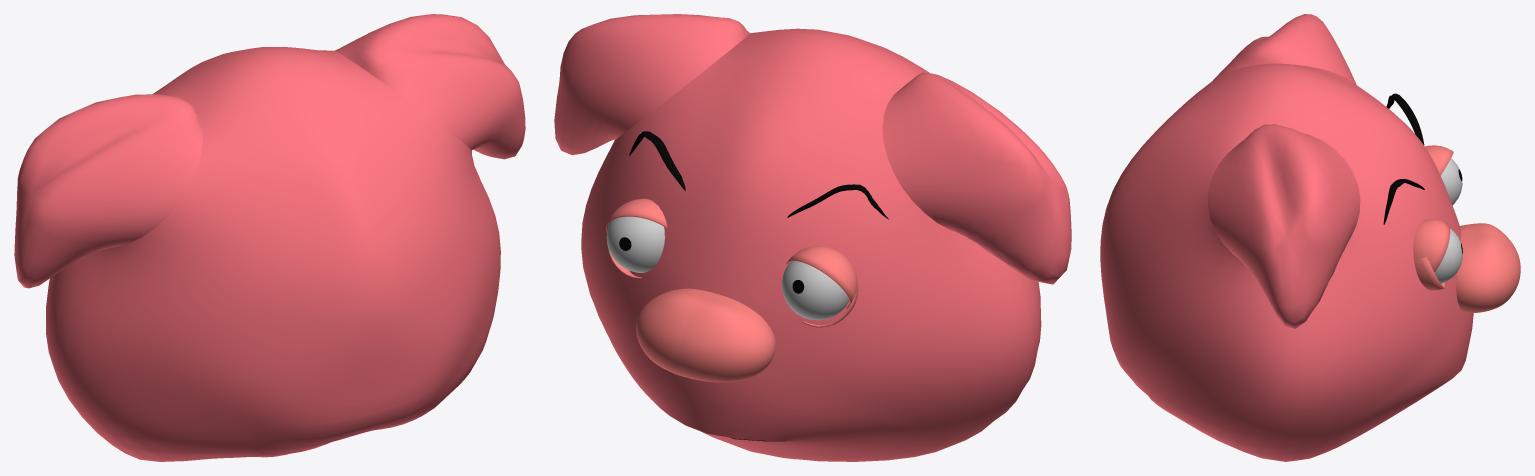
Rendered from [5]Brows.obj.
The picture shows the model from 3 angles, left to right: view 1: azimuth 30°, elevation 25°; view 2: azimuth 150°, elevation 25°; view 3: azimuth 270°, elevation 25°; orthographic projection. The views are drawn at different scales.
Parts seen in each view (by area): view 1: Head_Roundcube; view 2: Head_Roundcube, Head.002_Roundcube.002, Eyeball.001_Sphere.005, Eyeball_Sphere, Eyelid_Bottom_Left.003_Sphere.011, Head.001_Roundcube.001, Eyelid_Bottom_Left.002_Sphere.009; view 3: Head_Roundcube, Head.002_Roundcube.002, Eyelid_Bottom_Left.002_Sphere.009, Head.001_Roundcube.001, Eyeball_Sphere, Eyeball.001_Sphere.005, Eyelid_Bottom_Left_Sphere.003, Eyelid_Bottom_Left.003_Sphere.011.
Part boxes in pixels (box(x1,y1,x2,y2)): Head_Roundcube: box(14, 14, 525, 461); Head_Roundcube: box(554, 14, 1071, 461); Head.002_Roundcube.002: box(636, 288, 775, 382); Eyeball.001_Sphere.005: box(782, 261, 849, 320); Eyeball_Sphere: box(606, 216, 664, 272); Eyelid_Bottom_Left.003_Sphere.011: box(786, 246, 857, 308); Head.001_Roundcube.001: box(629, 131, 888, 219); Eyelid_Bottom_Left.002_Sphere.009: box(606, 198, 667, 232); Head_Roundcube: box(1100, 14, 1473, 461); Head.002_Roundcube.002: box(1456, 223, 1520, 312); Eyelid_Bottom_Left.002_Sphere.009: box(1413, 219, 1450, 272); Head.001_Roundcube.001: box(1383, 93, 1424, 224); Eyeball_Sphere: box(1434, 228, 1462, 283); Eyeball.001_Sphere.005: box(1441, 158, 1462, 205); Eyelid_Bottom_Left_Sphere.003: box(1413, 256, 1445, 290); Eyelid_Bottom_Left.003_Sphere.011: box(1425, 145, 1453, 175).
Size of the model in its own units: 3.92 by 2.85 by 3.16.
